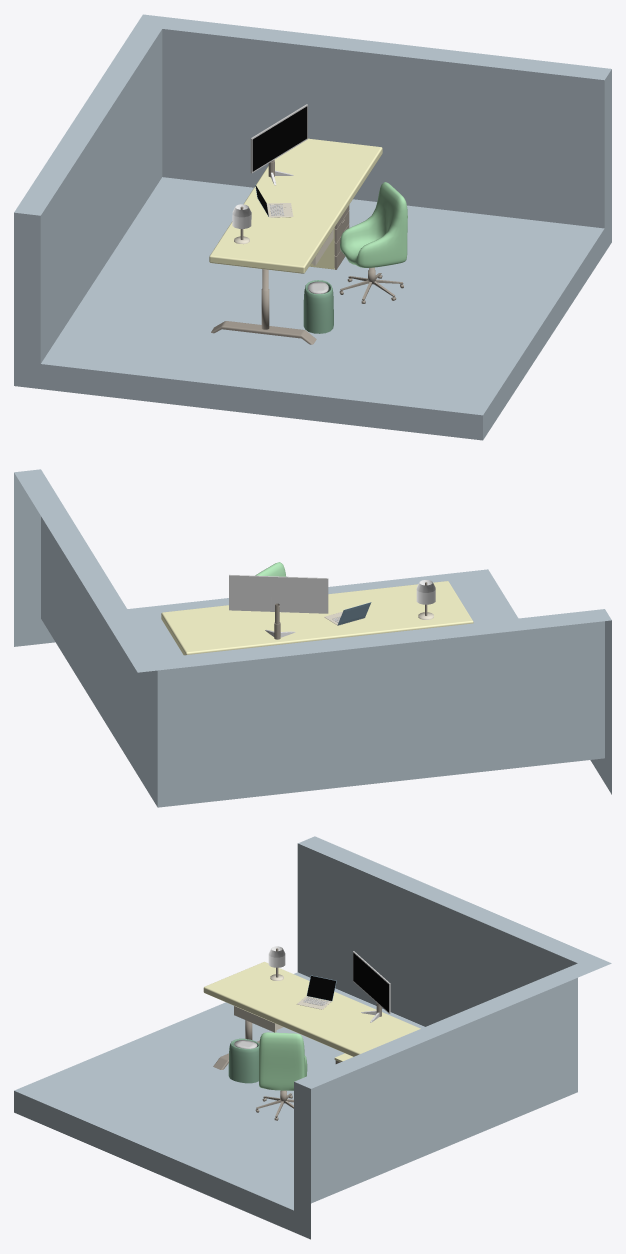
File: room.glb
3 views of the same model, one above another, from view 1: azimuth 30°, elevation 25°; view 2: azimuth 150°, elevation 25°; view 3: azimuth 270°, elevation 25° (orthographic). The views are drawn at different scales.
Parts seen in each view (by area): view 1: Wall, TableSurface, ChairSeat, Screen.001, Trash Bin, TableBottom; view 2: Wall, TableSurface, Screen.001; view 3: Wall, TableSurface, ChairSeat, Screen.001, Trash Bin, Screen.
Part boxes in pixels (left/top/right/bottom): Wall: left=14, top=14, right=611, bottom=440; TableSurface: left=209, top=138, right=382, bottom=273; ChairSeat: left=340, top=182, right=407, bottom=267; Screen.001: left=250, top=104, right=307, bottom=173; Trash Bin: left=303, top=280, right=333, bottom=333; TableBottom: left=211, top=321, right=316, bottom=344; Wall: left=14, top=469, right=611, bottom=807; TableSurface: left=161, top=581, right=473, bottom=655; Screen.001: left=229, top=574, right=328, bottom=613; Wall: left=14, top=836, right=611, bottom=1239; TableSurface: left=203, top=962, right=420, bottom=1056; ChairSeat: left=259, top=1032, right=307, bottom=1090; Screen.001: left=353, top=951, right=390, bottom=1013; Trash Bin: left=228, top=1038, right=259, bottom=1083; Screen: left=306, top=975, right=336, bottom=1001.
Bounding box in the file's own units: 41.61 × 11.57 × 41.61.
